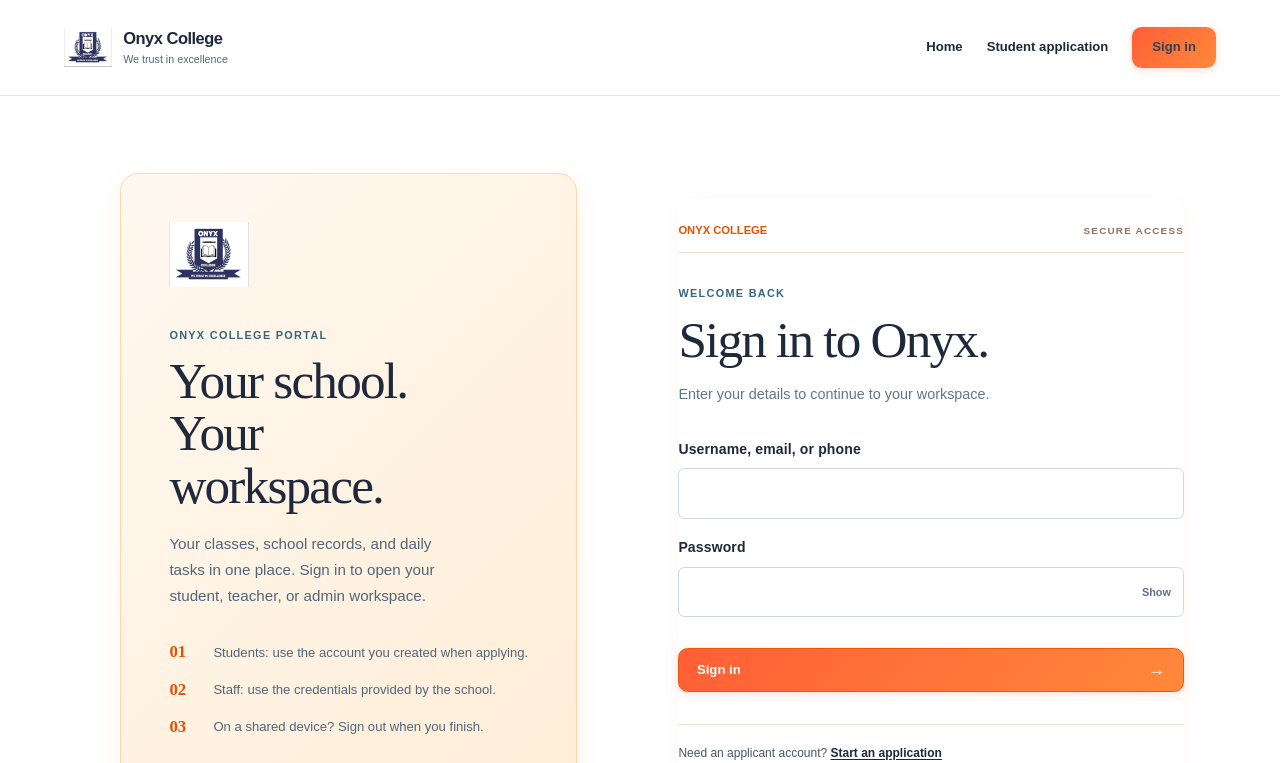
Test: browser authentication lifecycle › takes a successful direct login to the account portal
Type "super.admin" into the field labelled "Username, email, or phone" at (931, 494), box [678,468,1184,519]
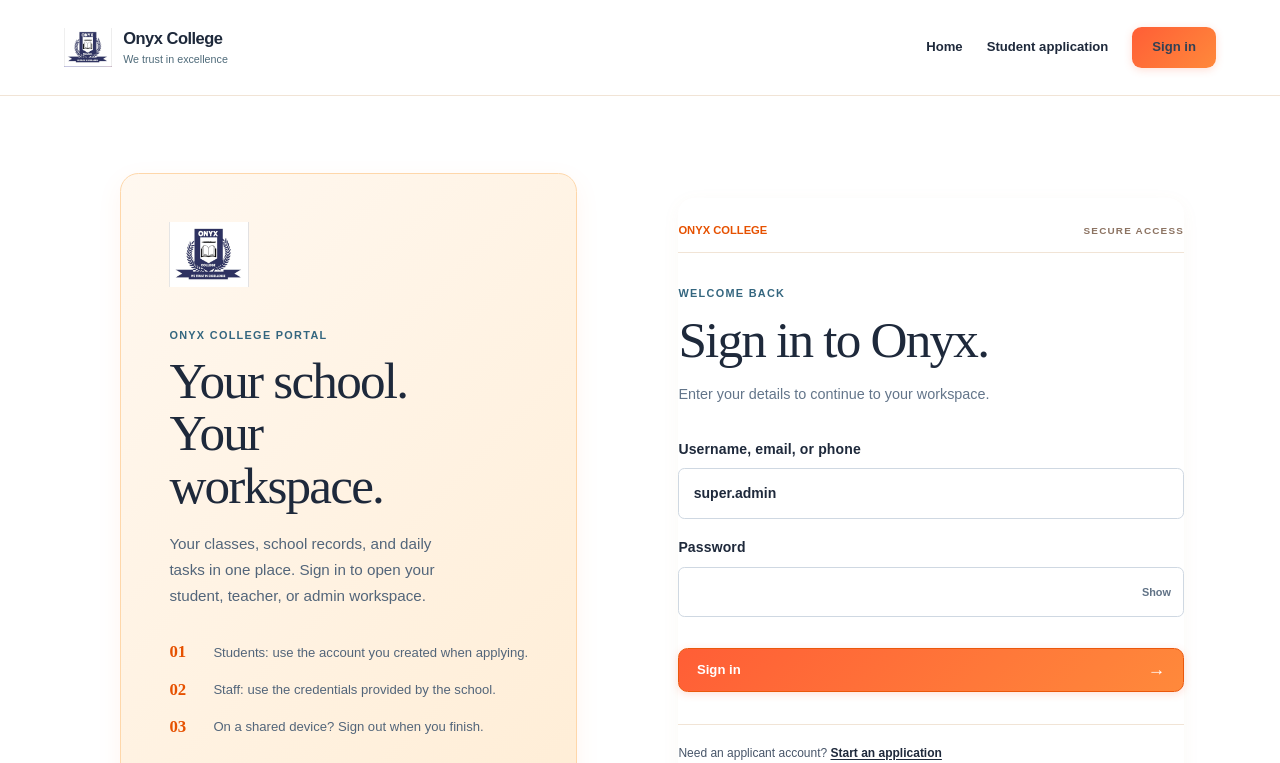
Type "a-secure-password" into the password field labelled "Password Show" at (931, 592), box [678,567,1184,617]
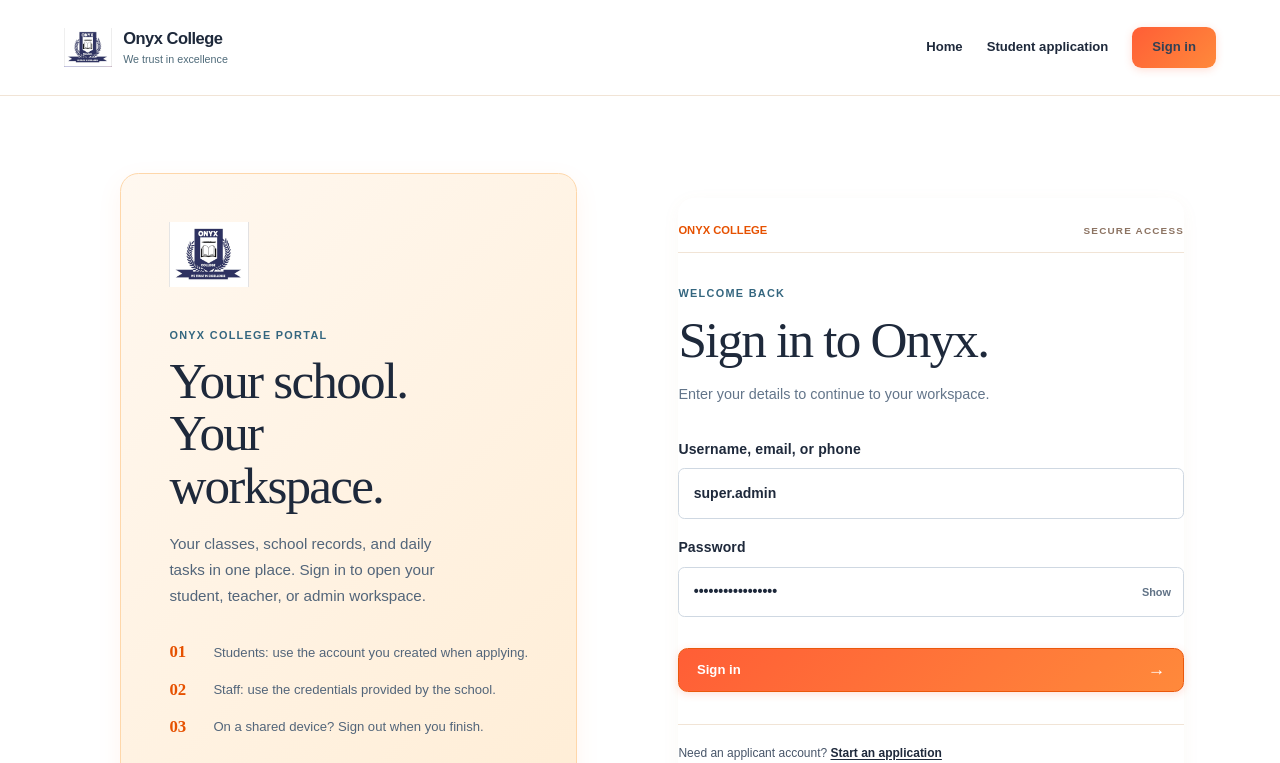
Click the button "Sign in →" at (719, 670), box [678,648,1184,692]
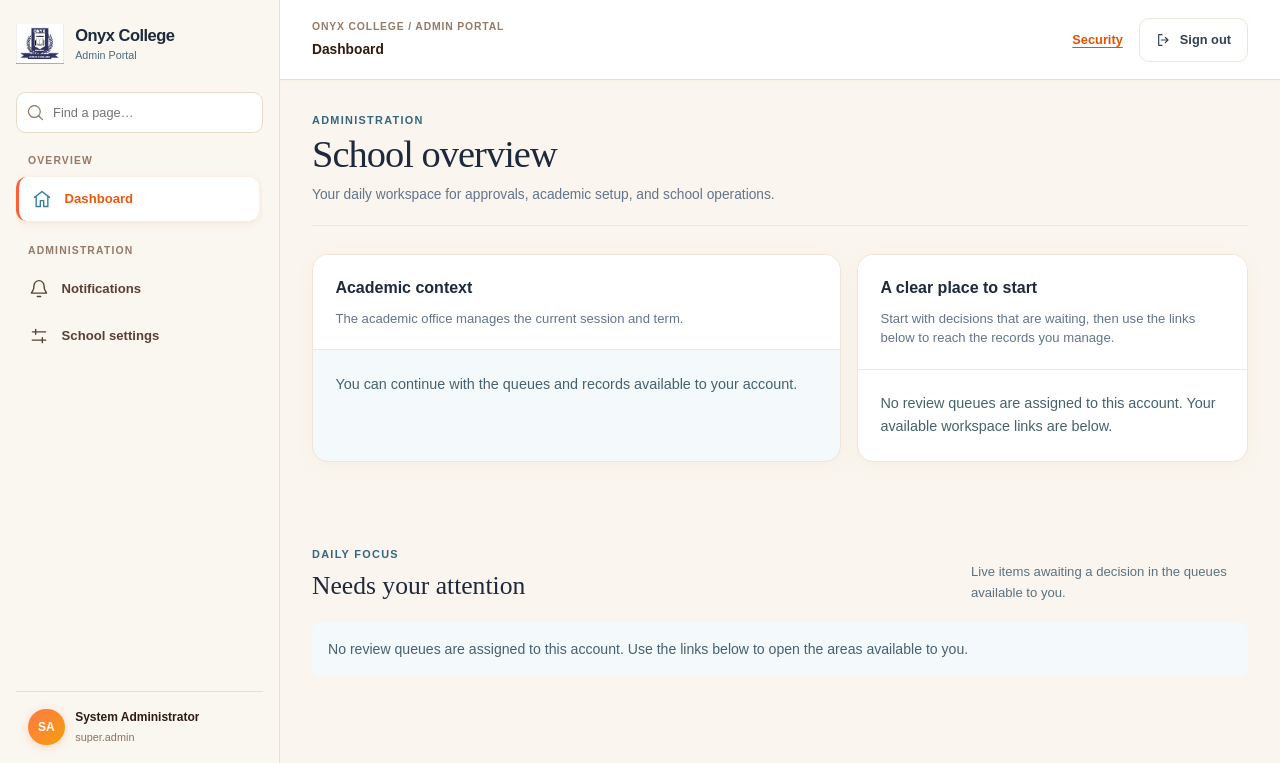
Result: the heading "School overview" is shown at [312,133,557,175]
